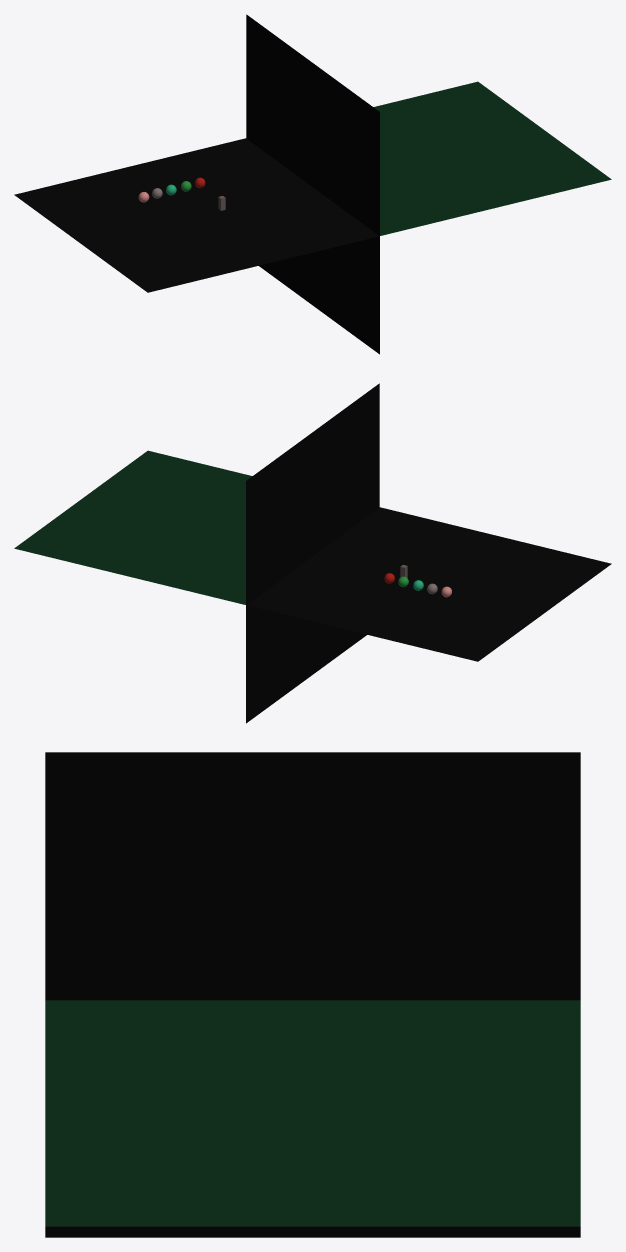
The picture shows the model from 3 angles, top to bottom: view 1: azimuth 30°, elevation 25°; view 2: azimuth 150°, elevation 25°; view 3: azimuth 270°, elevation 25°; orthographic projection. The views are drawn at different scales.
Visible parts, largest first — view 1: floor (×3); view 2: floor (×3); view 3: floor (×2).
Boxes of the visible parts, x1,y1,x2,y2 form: floor (×3): (14,14,611,354); floor (×3): (14,383,611,723); floor (×2): (45,752,580,1237).
Bounding box in the file's own units: 100 × 50 × 50.
